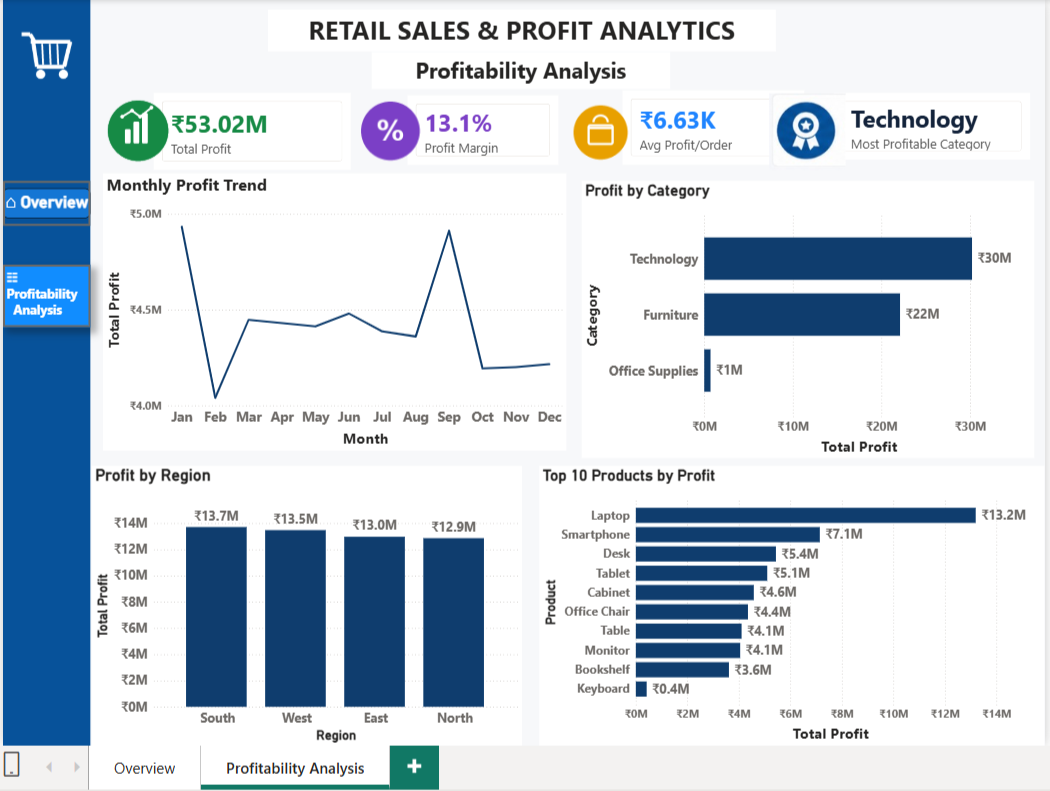

The dashboard page shown, as its layout file describes it:
{"tool":"powerbi","page":{"name":"Profitability Analysis","canvas":[1536,1100],"ordinal":1},"visuals":[{"type":"shape","box":[0,0,129,1100.4],"z":0},{"type":"textbox","box":[390.3,15.1,748.7,62],"z":1000},{"type":"textbox","box":[543.4,77.4,439.7,54.3],"z":2000},{"type":"cardVisual","fields":{"Data":["DateTable.Avg Profit per Order"]},"box":[908.7,129,278.3,119.8],"z":3000},{"type":"cardVisual","fields":{"Data":["DateTable.Total Profit"]},"box":[217.5,132.7,300.4,123.5],"z":4000},{"type":"cardVisual","fields":{"Data":["DateTable.Profit Margin"]},"box":[591.7,136.4,232.2,112.4],"z":5000},{"type":"image","box":[129,145.6,139.6,95],"z":6000},{"type":"image","box":[838.6,130.9,84.8,129],"z":7000},{"type":"image","box":[517.9,147.5,106.9,92.2],"z":8000},{"type":"image","box":[7.4,24,114.3,114.3],"z":9000},{"type":"shape","title":"⌂ Overview","box":[0,278.3,129,44.2],"z":10000},{"type":"textbox","box":[0,390.8,129,92.2],"z":11000},{"type":"actionButton","box":[0,390.8,129,92.2],"z":12000},{"type":"actionButton","box":[0,267.3,129,66.4],"z":13000},{"type":"cardVisual","fields":{"Data":["retail_sales.Most Profitable Category"]},"box":[1220.2,132.7,299.8,108],"z":14000},{"type":"image","box":[1104.1,138.2,164,112.4],"z":15000},{"type":"clusteredBarChart","title":" Profit by Category","fields":{"Category":["retail_sales.Category"],"Y":["DateTable.Total Profit"]},"box":[853.4,267.3,667.2,409.2],"z":17000},{"type":"clusteredColumnChart","title":" Profit by Region","fields":{"Category":["retail_sales.Region"],"Y":["DateTable.Total Profit"]},"box":[130.9,687.5,634.1,412.9],"z":18000},{"type":"clusteredBarChart","title":"Top 10 Products by Profit","fields":{"Category":["retail_sales.Product"],"Y":["DateTable.Total Profit"]},"box":[790.7,687.5,744.6,412.9],"z":19000},{"type":"lineChart","title":"Monthly Profit Trend","fields":{"Category":["DateTable.Month"],"Y":["DateTable.Total Profit"]},"box":[147,256,683,409],"z":19001}]}

Visuals, with their boxes on the page's 1536x1100 design canvas (x1, y1, x2, y2). These are canvas units, not pixel positions in the 1050x791 screenshot, which may show the page scaled, cropped or inside an application window:
shape: detection(0, 0, 129, 1100)
textbox: detection(390, 15, 1139, 77)
textbox: detection(543, 77, 983, 132)
cardVisual - DateTable.Avg Profit per Order: detection(909, 129, 1187, 249)
cardVisual - DateTable.Total Profit: detection(218, 133, 518, 256)
cardVisual - DateTable.Profit Margin: detection(592, 136, 824, 249)
image: detection(129, 146, 269, 241)
image: detection(839, 131, 923, 260)
image: detection(518, 148, 625, 240)
image: detection(7, 24, 122, 138)
"⌂ Overview" shape: detection(0, 278, 129, 322)
textbox: detection(0, 391, 129, 483)
actionButton: detection(0, 391, 129, 483)
actionButton: detection(0, 267, 129, 334)
cardVisual - retail_sales.Most Profitable Category: detection(1220, 133, 1520, 241)
image: detection(1104, 138, 1268, 251)
" Profit by Category" clusteredBarChart: detection(853, 267, 1521, 676)
" Profit by Region" clusteredColumnChart: detection(131, 688, 765, 1100)
"Top 10 Products by Profit" clusteredBarChart: detection(791, 688, 1535, 1100)
"Monthly Profit Trend" lineChart: detection(147, 256, 830, 665)
